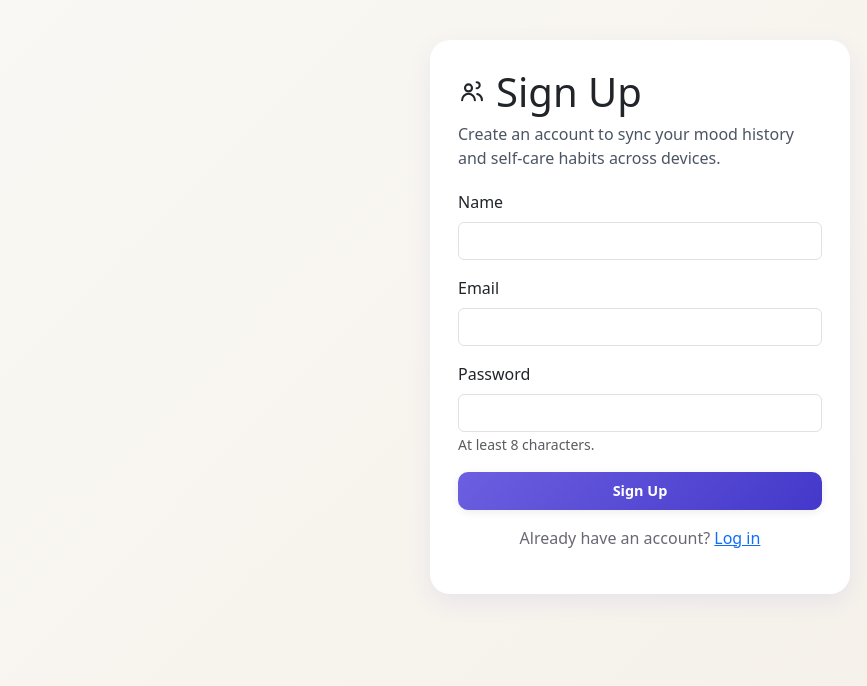
Test case: Signup › shows the server's error message on failure
Type "Student" into the field labelled "Name" at (640, 241), box [458,222,822,260]
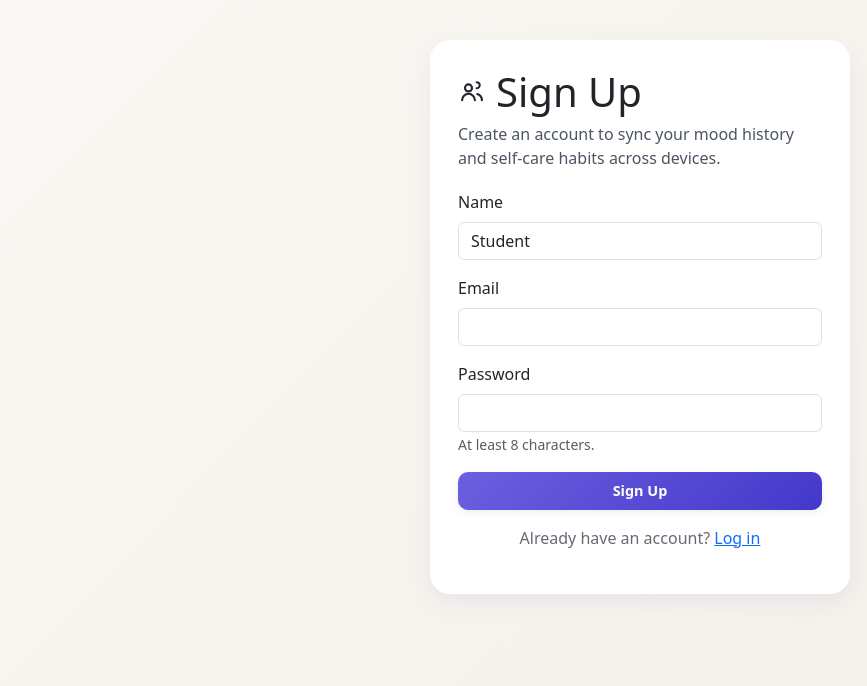
Type "student@wisc.edu" into the field labelled "Email" at (640, 327), box [458,308,822,346]
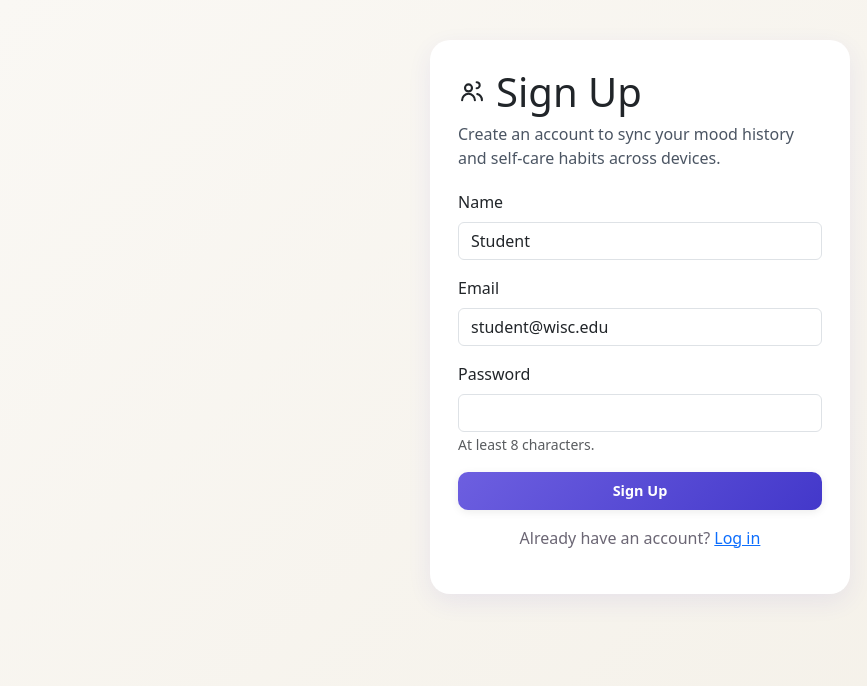
Type "correcthorsebattery" into the password field labelled "Password" at (640, 413), box [458,394,822,432]
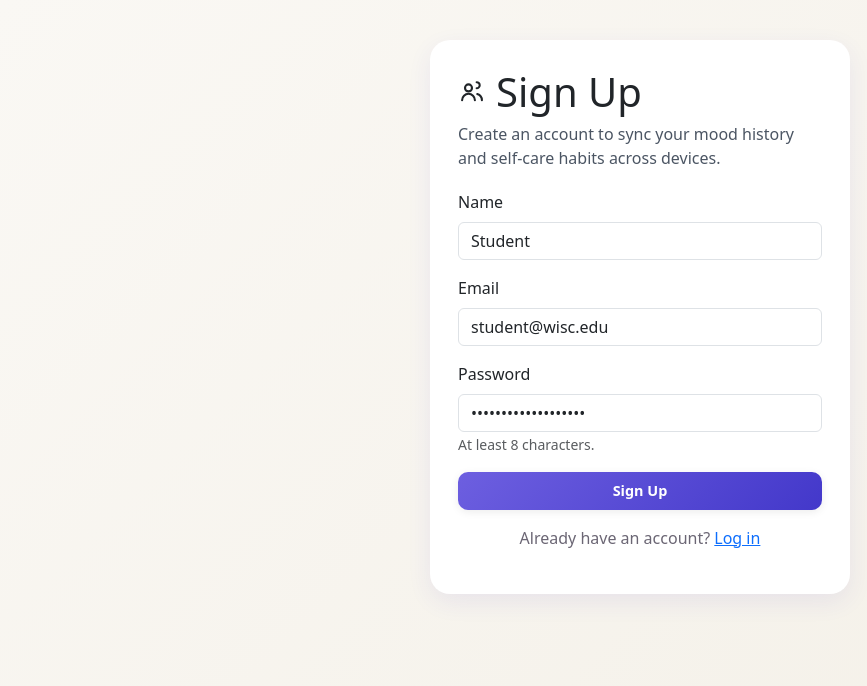
Click the button "Sign Up" at (640, 491), box [458,472,822,510]
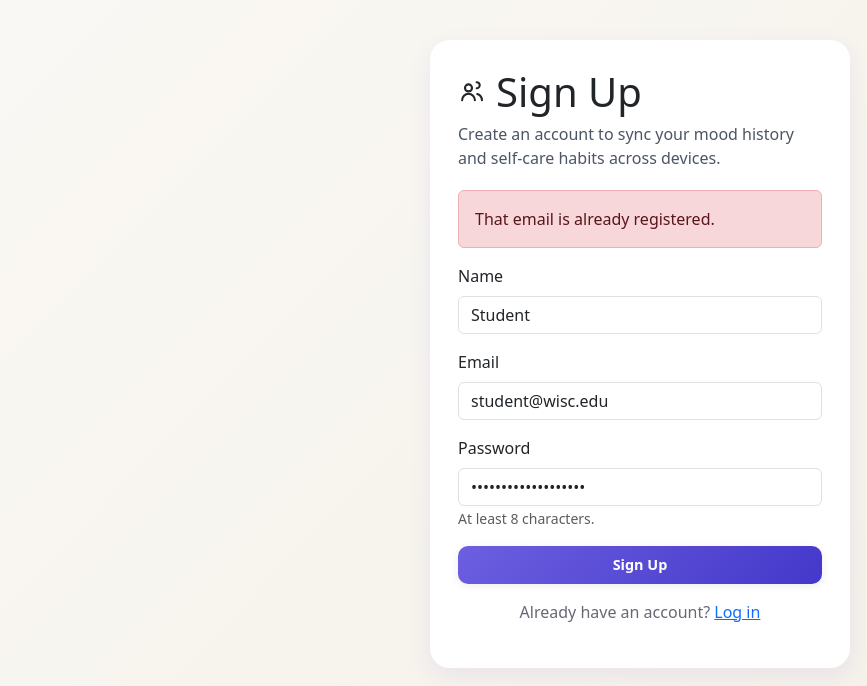
Check: the text "That email is already registered." is shown, box [458,190,822,248]
